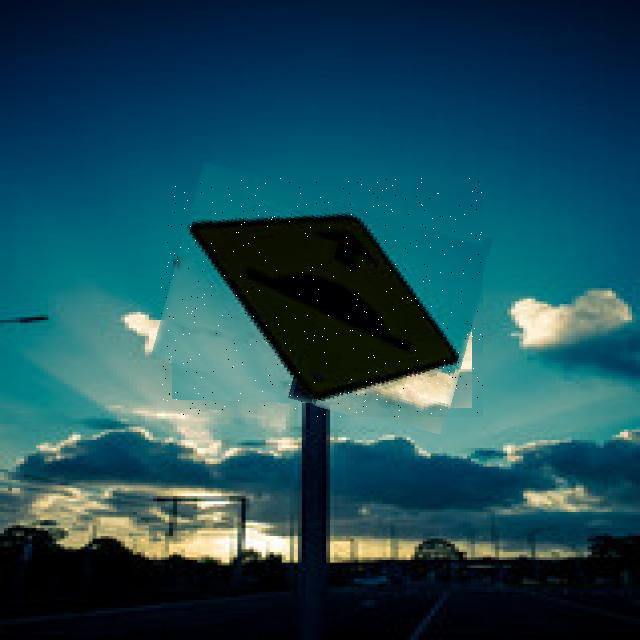hump: (161, 178, 483, 417)
